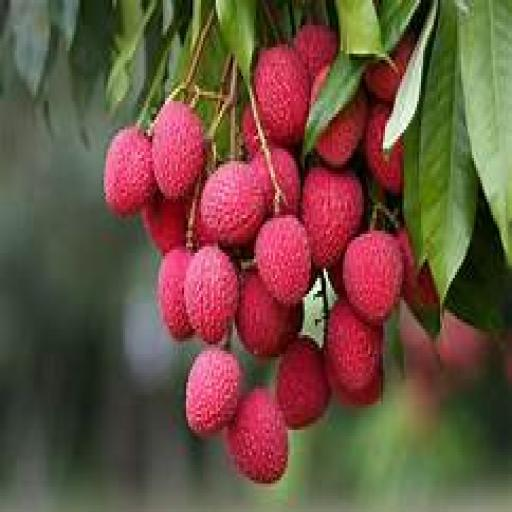lychee: (303, 168, 363, 268), (343, 231, 404, 325), (254, 45, 311, 145), (227, 389, 287, 483), (235, 272, 300, 357), (201, 162, 266, 246), (324, 301, 382, 395), (185, 247, 239, 344), (254, 215, 311, 306), (153, 102, 205, 199), (276, 339, 330, 429), (187, 348, 241, 436), (104, 127, 156, 214), (316, 92, 368, 167), (438, 310, 490, 382), (364, 105, 404, 195), (396, 228, 440, 309), (364, 35, 414, 104), (157, 247, 192, 341), (142, 193, 186, 252), (326, 361, 382, 407), (295, 23, 338, 79), (271, 149, 300, 214), (242, 105, 260, 158), (328, 260, 344, 297)
